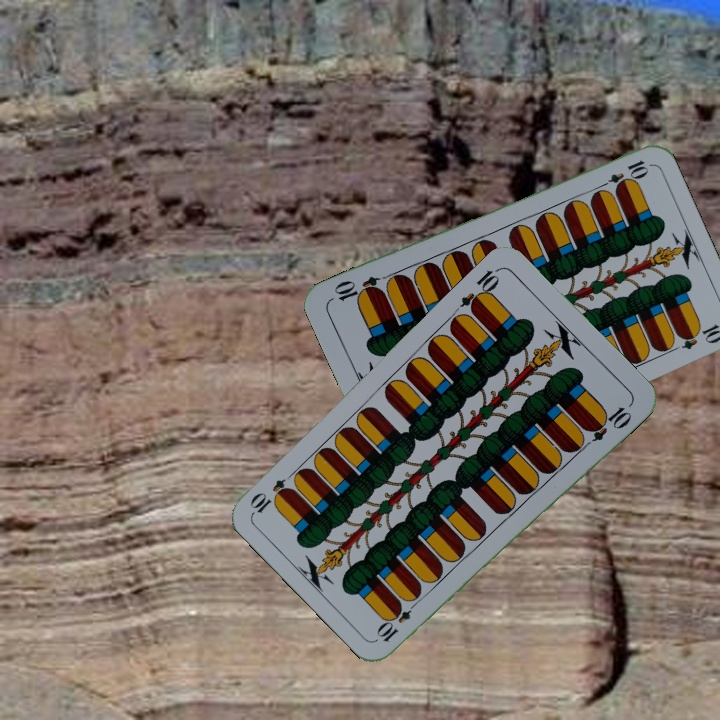E10: (373, 595, 422, 645), (456, 264, 503, 316), (594, 155, 650, 193)
